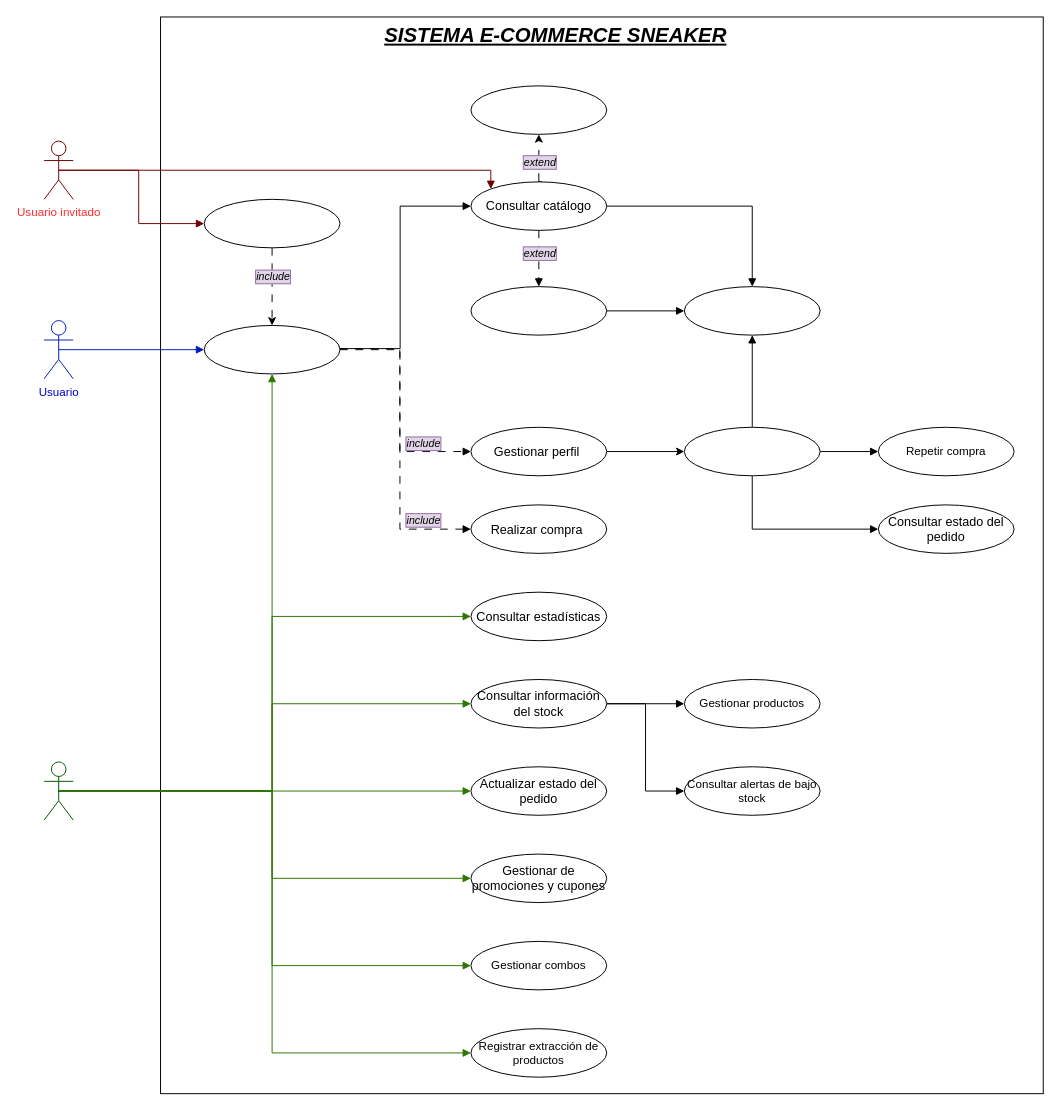
Some shapes in this 1060 by 1111 pixel diagram are drawn without their labels. The centre of each missing label's shape, as x and y in pixels:
Administrador: the point at 58,790
Buscar productos: the point at 538,310
Consultar detalles de producto: the point at 751,310
Consultar historial de compra: the point at 751,451
Iniciar sesión: the point at 271,349
Registrar: the point at 271,223
Utilizar asistente: the point at 538,109
